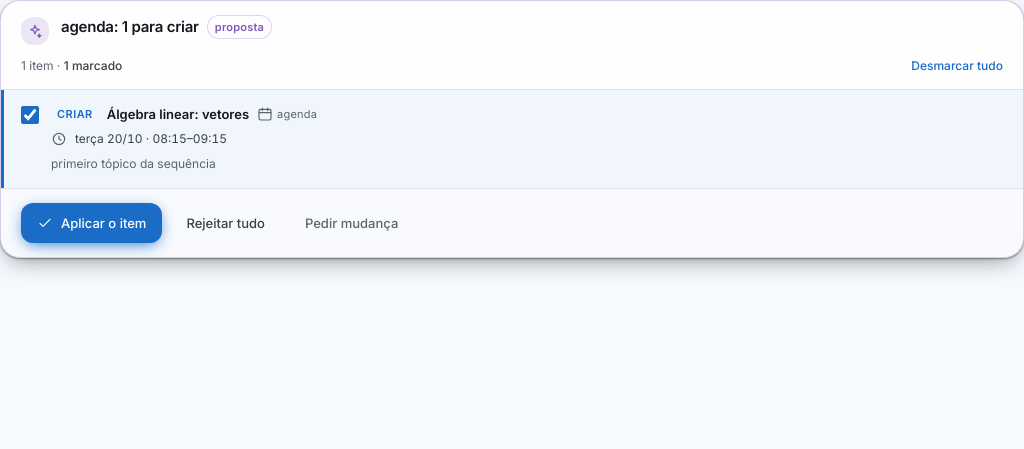
Test: pedir mudança em palavras › não manda texto vazio
Step 1. Click the button "Pedir mudança" → click(352, 222), box [289,202,414,242]
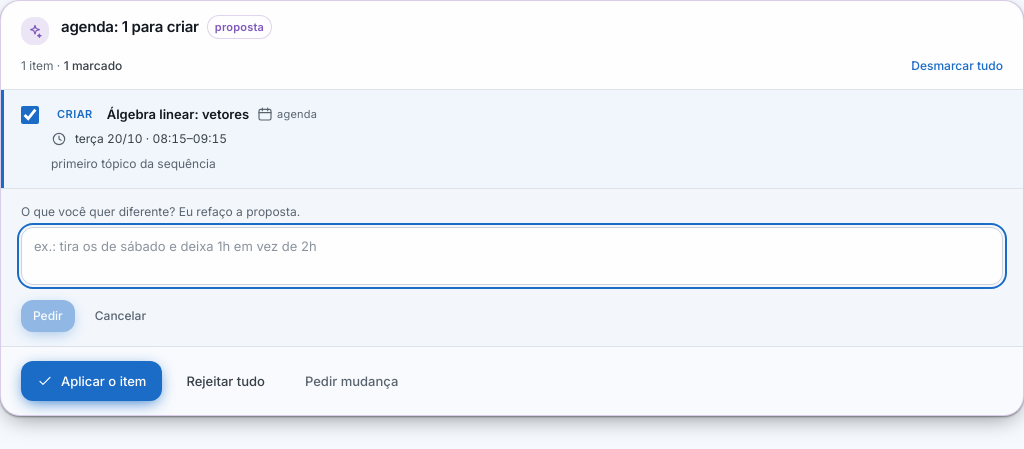
Check: the button "Pedir" is disabled, box [21,300,75,332]
